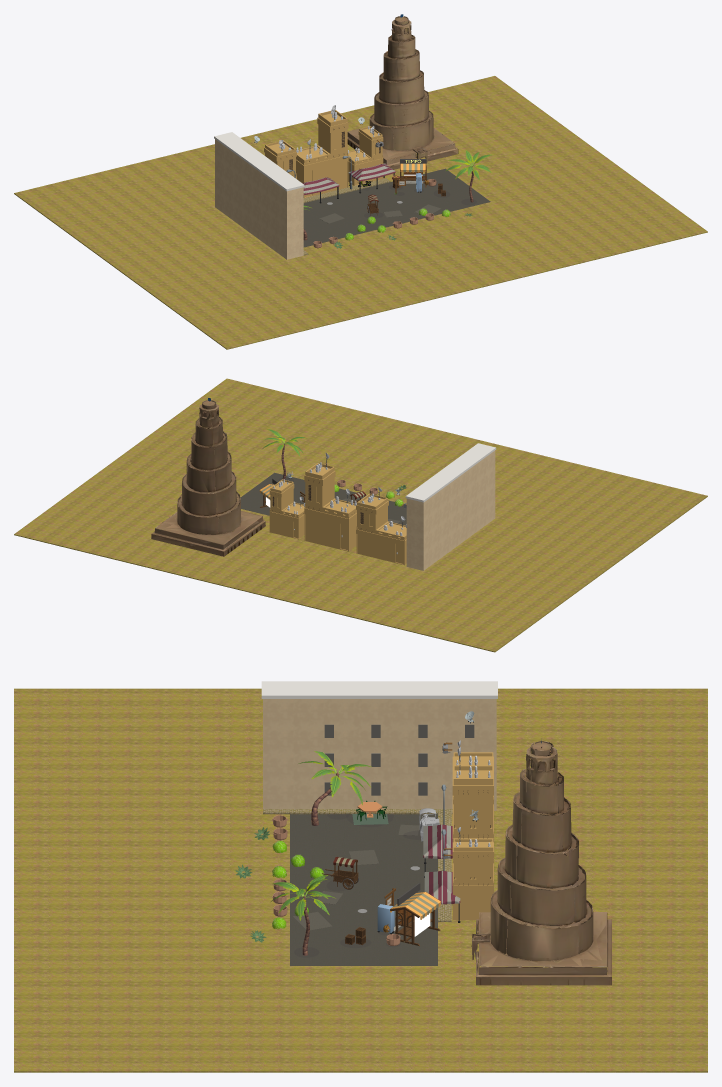
File: street.glb
3 renders of one model, top to bottom at view 1: azimuth 30°, elevation 25°; view 2: azimuth 150°, elevation 25°; view 3: azimuth 270°, elevation 25°, orthographic. The views are drawn at different scales.
Parts seen in each view (by area): view 1: ground, bld_left, minaret, roadbed, bld_b2, bld_b3, bld_b1, palmA, canopyB; view 2: ground, minaret, bld_left, bld_b2, bld_b1, bld_b3, roadbed, palmA; view 3: ground, bld_left, minaret, roadbed, bld_b3, bld_b2, marketStand, palmA, palmB, canopyA, canopyB, sidewalk_l (+3 smaller).
Part boxes in pixels (x1,y1,x2,y2): ground: [14, 76, 707, 349]; bld_left: [214, 132, 304, 259]; minaret: [347, 14, 458, 169]; roadbed: [303, 168, 490, 247]; bld_b2: [296, 105, 348, 197]; bld_b3: [348, 126, 383, 185]; bld_b1: [264, 140, 296, 178]; palmA: [445, 150, 493, 202]; canopyB: [348, 163, 395, 193]; ground: [14, 378, 707, 652]; minaret: [151, 398, 265, 556]; bld_left: [405, 443, 496, 570]; bld_b2: [304, 452, 356, 551]; bld_b1: [356, 487, 406, 565]; bld_b3: [269, 473, 304, 539]; roadbed: [240, 472, 406, 525]; palmA: [262, 429, 307, 479]; ground: [14, 688, 707, 1072]; bld_left: [261, 681, 497, 810]; minaret: [471, 740, 611, 985]; roadbed: [290, 814, 437, 965]; bld_b3: [452, 827, 493, 919]; bld_b2: [452, 747, 493, 859]; marketStand: [390, 891, 440, 945]; palmA: [271, 875, 335, 955]; palmB: [298, 751, 371, 825]; canopyA: [423, 824, 452, 877]; canopyB: [424, 870, 460, 922]; sidewalk_l: [263, 809, 452, 814].
Bounding box in the file's own units: 60 × 16.12 × 46.
116 materials, 30 textured.
